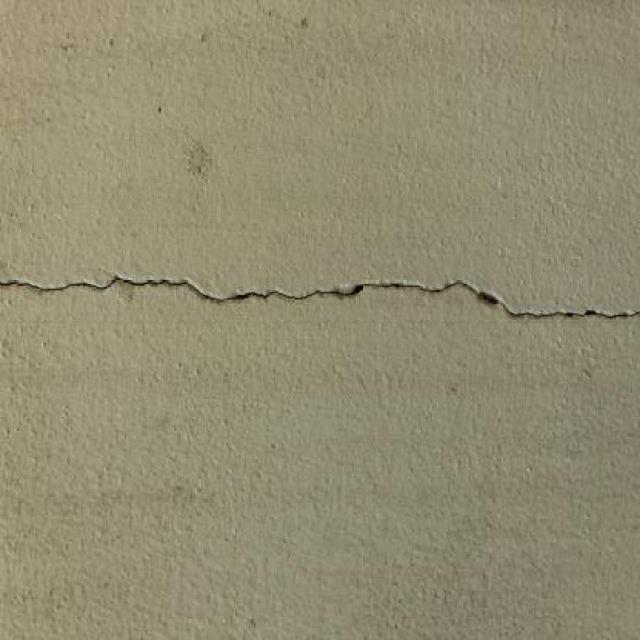Crack: (0, 272, 639, 322)
